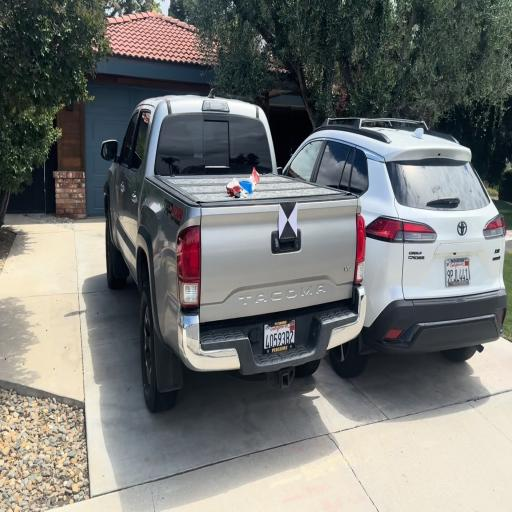target: (280, 204, 297, 238)
